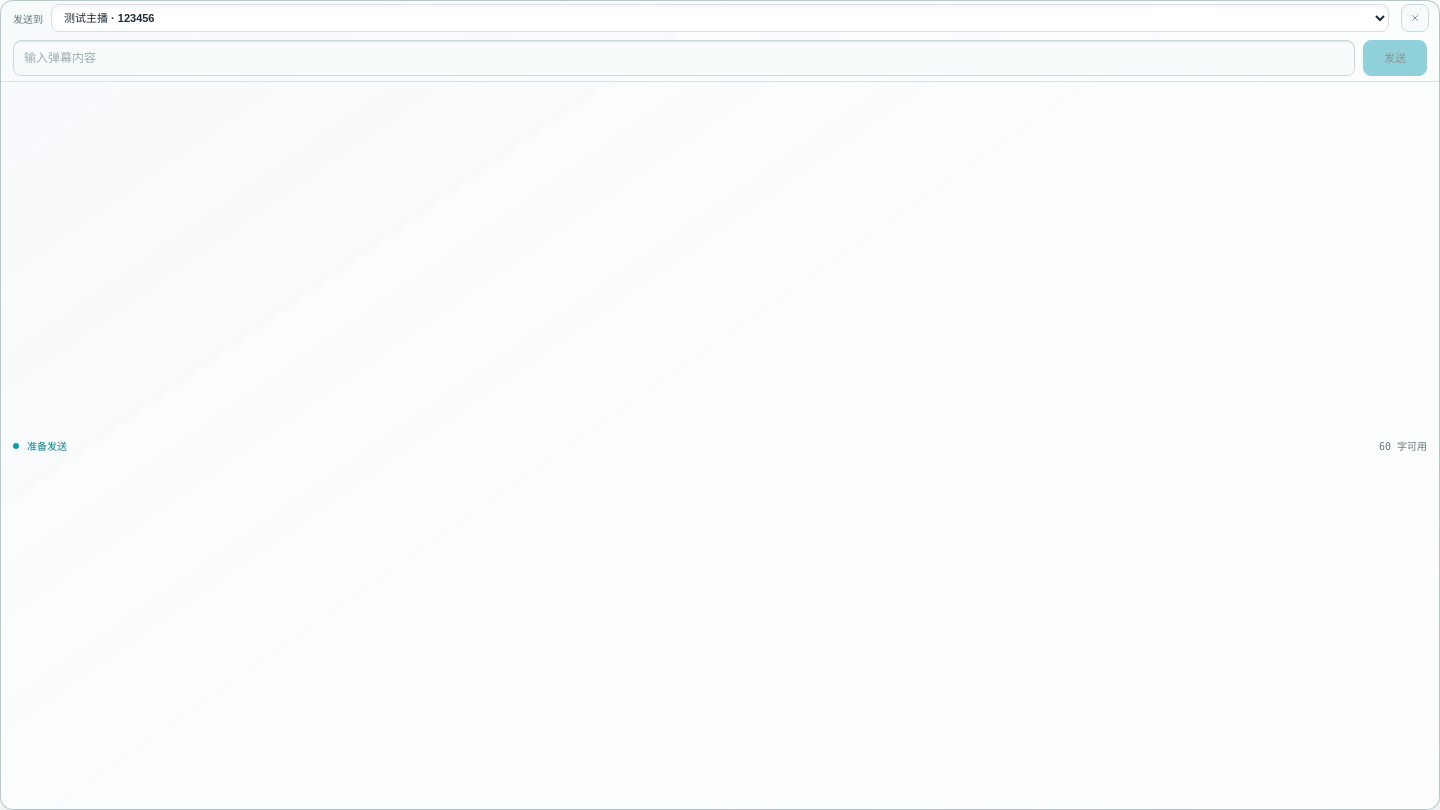
Test case: keeps failed text and exposes the failure in the status rail
Expected: the text "准备发送" is shown, [27, 438, 67, 453]
In the field labelled "弹幕内容": (684, 58) [13, 40, 1355, 76], type "保留内容"
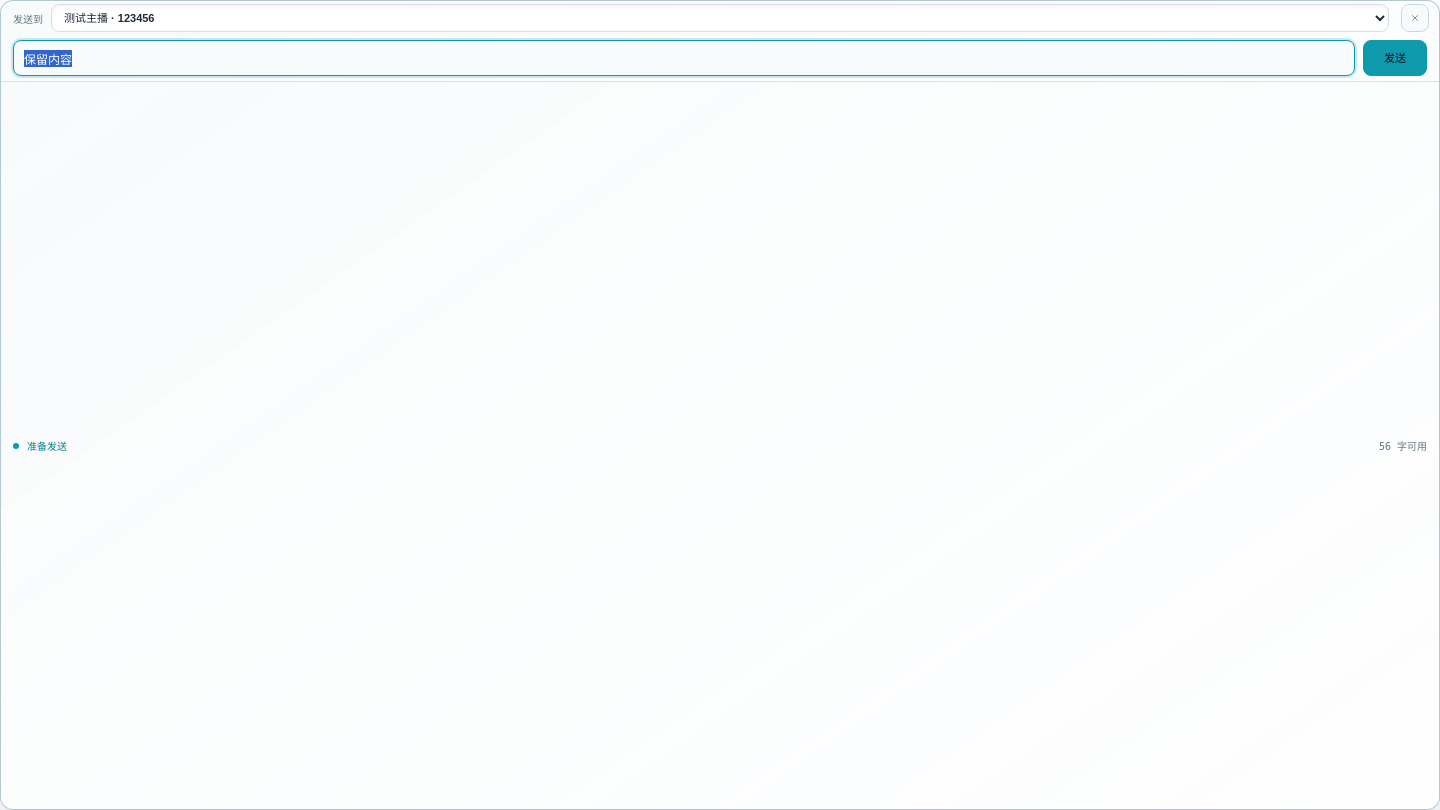
Click the button "发送": (1395, 58) [1363, 40, 1427, 76]
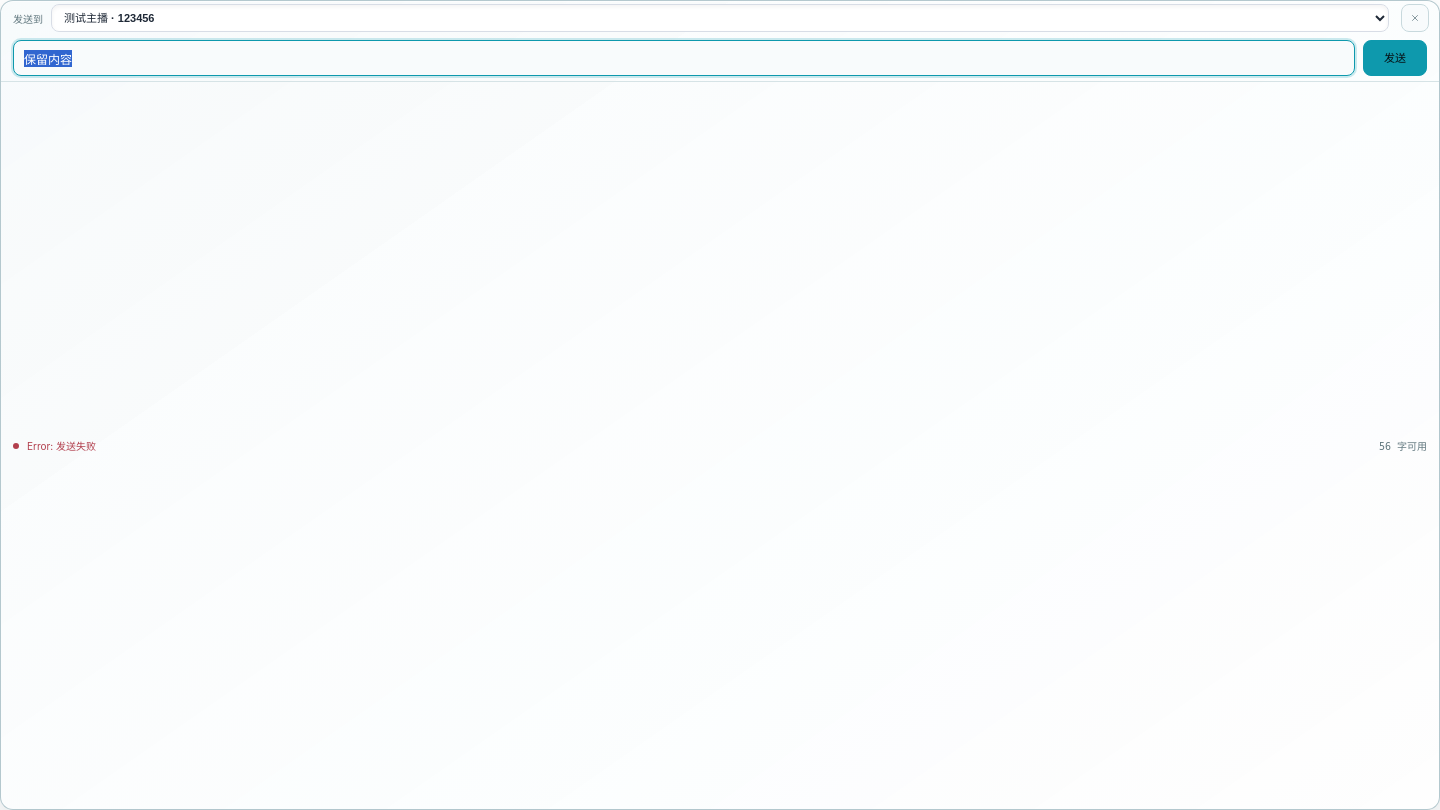
Expected: the text "Error: 发送失败" is shown, [27, 438, 96, 453]
